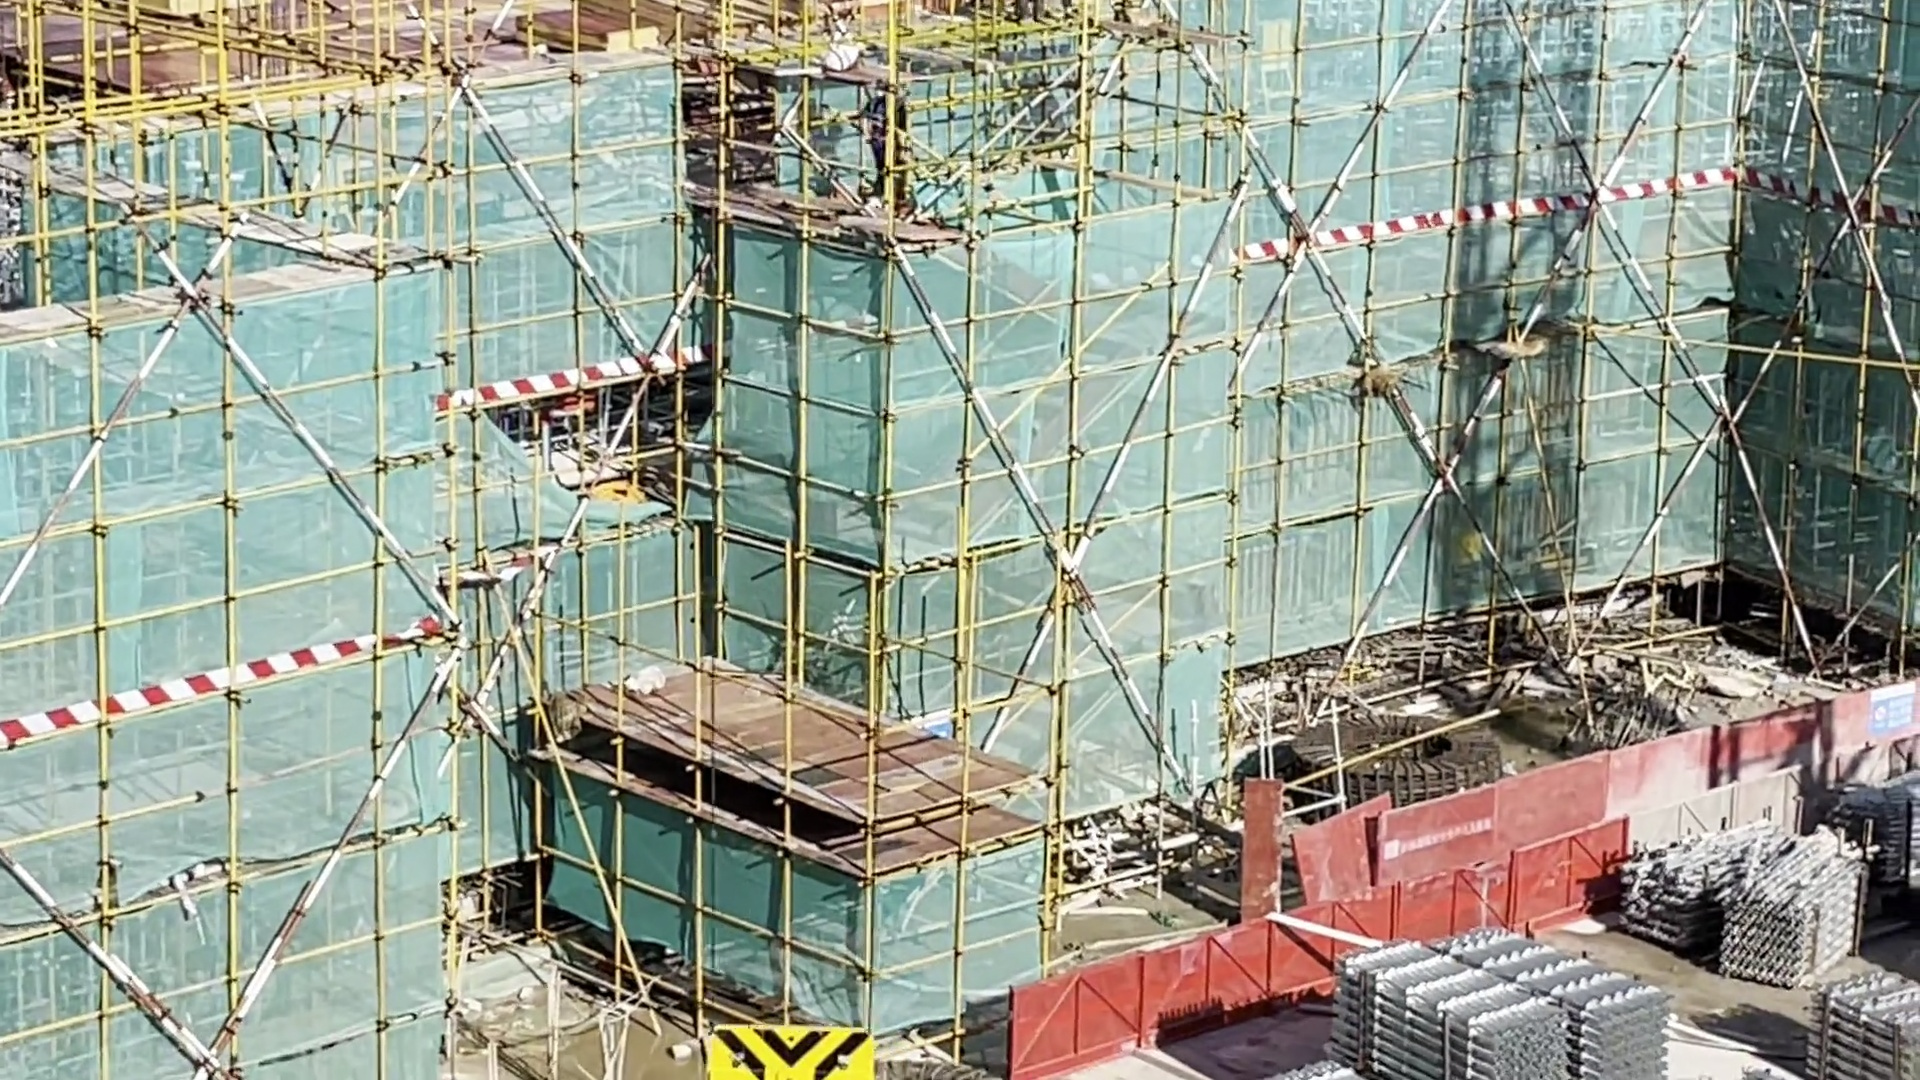fence: (1013, 725, 1920, 1080)
scaffold: (1328, 934, 1672, 1071), (1614, 819, 1865, 976), (1801, 975, 1920, 1076), (1821, 774, 1916, 894)
